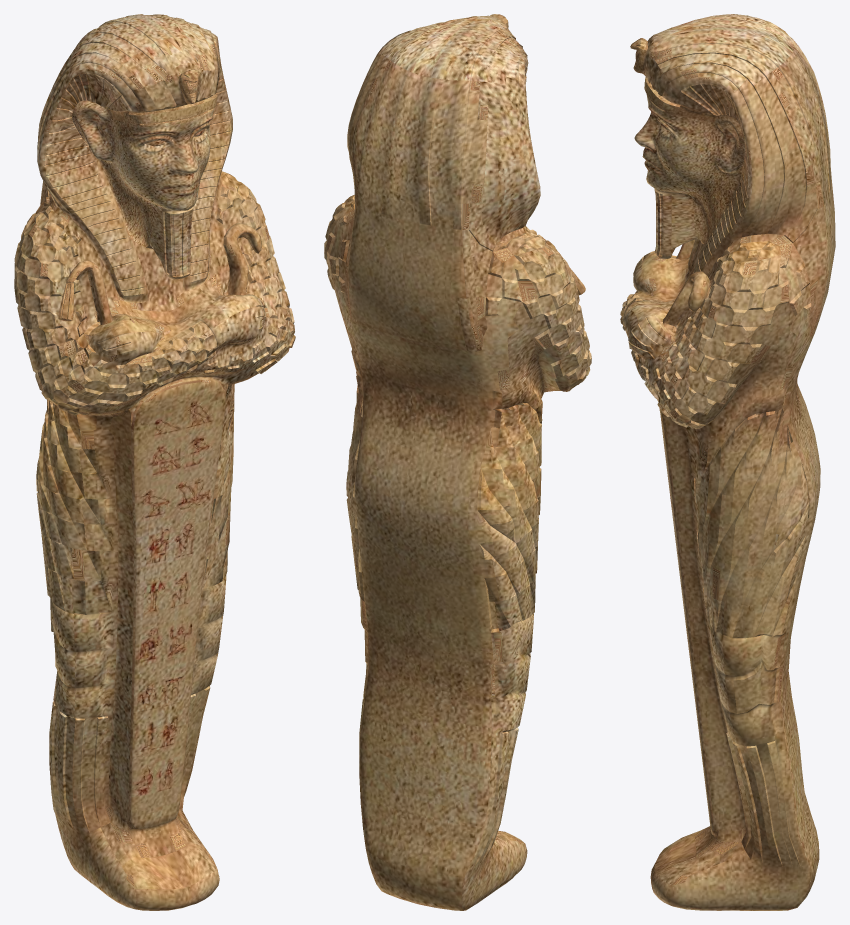
3 views of the same model, side by side, from view 1: azimuth 30°, elevation 25°; view 2: azimuth 150°, elevation 25°; view 3: azimuth 270°, elevation 25° (orthographic). The views are drawn at different scales.
Visible parts, largest first — view 1: MUMMY; view 2: MUMMY; view 3: MUMMY.
Part boxes in pixels (left/top/right/bottom): MUMMY: left=14, top=14, right=295, bottom=910; MUMMY: left=324, top=14, right=591, bottom=910; MUMMY: left=620, top=14, right=835, bottom=910.
Size of the model in its own units: 30.05 by 99.14 by 22.27.
